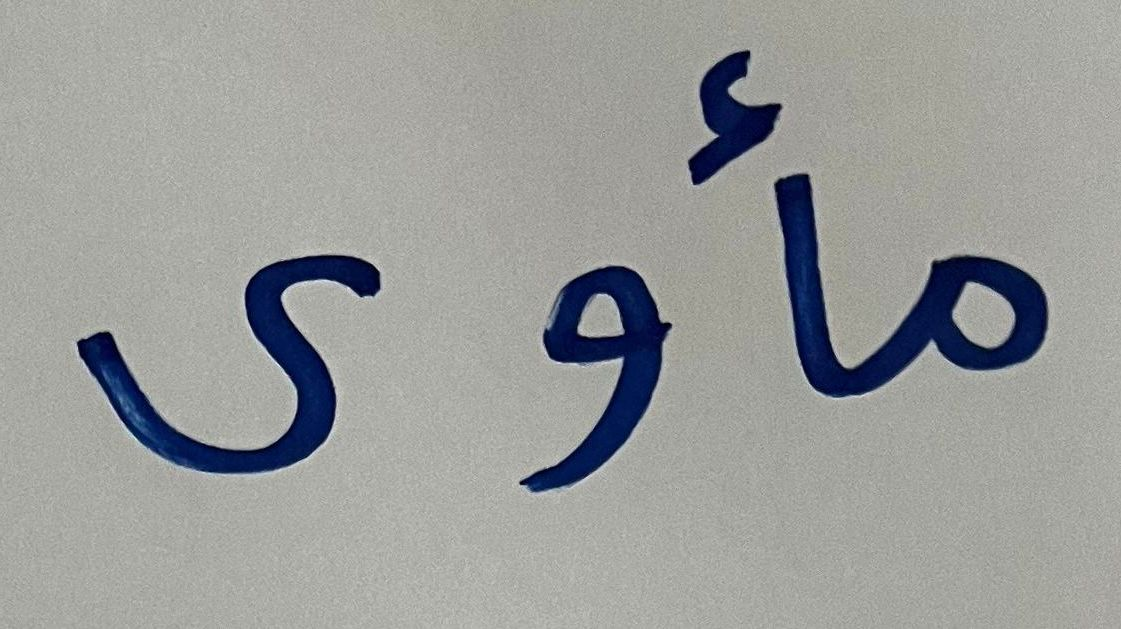hamza: (679, 5, 856, 450)
meem: (864, 184, 1075, 488)
waw: (480, 199, 675, 538)
yeh: (41, 127, 454, 555)
